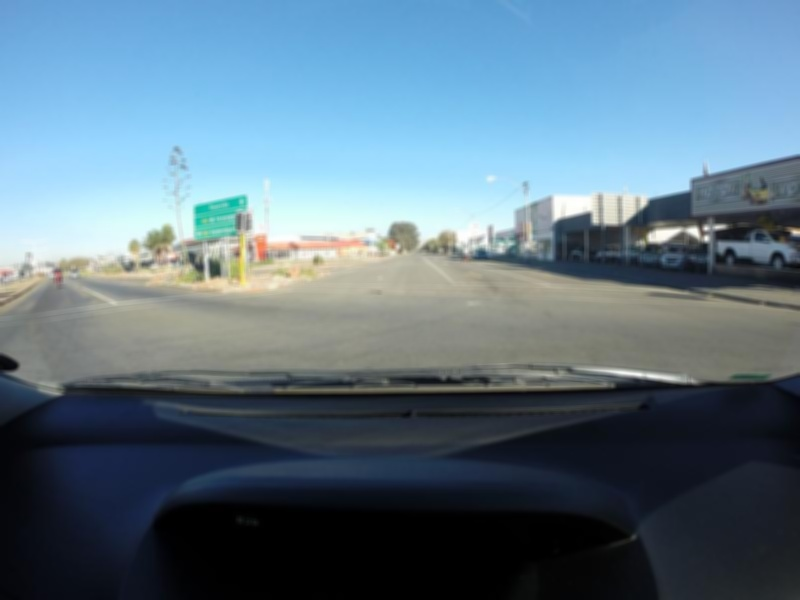pothole: (370, 287, 390, 291)
